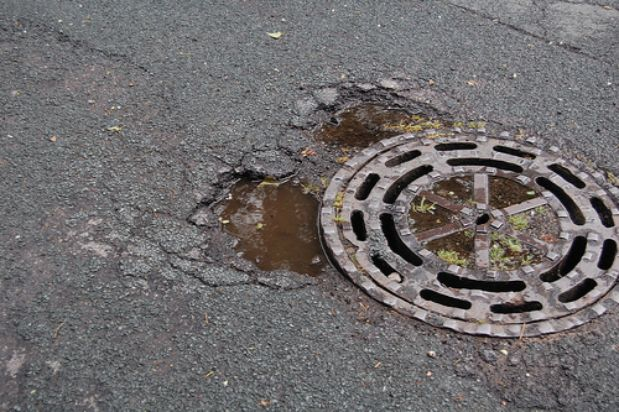pothole: (196, 159, 332, 287), (295, 78, 427, 150)
